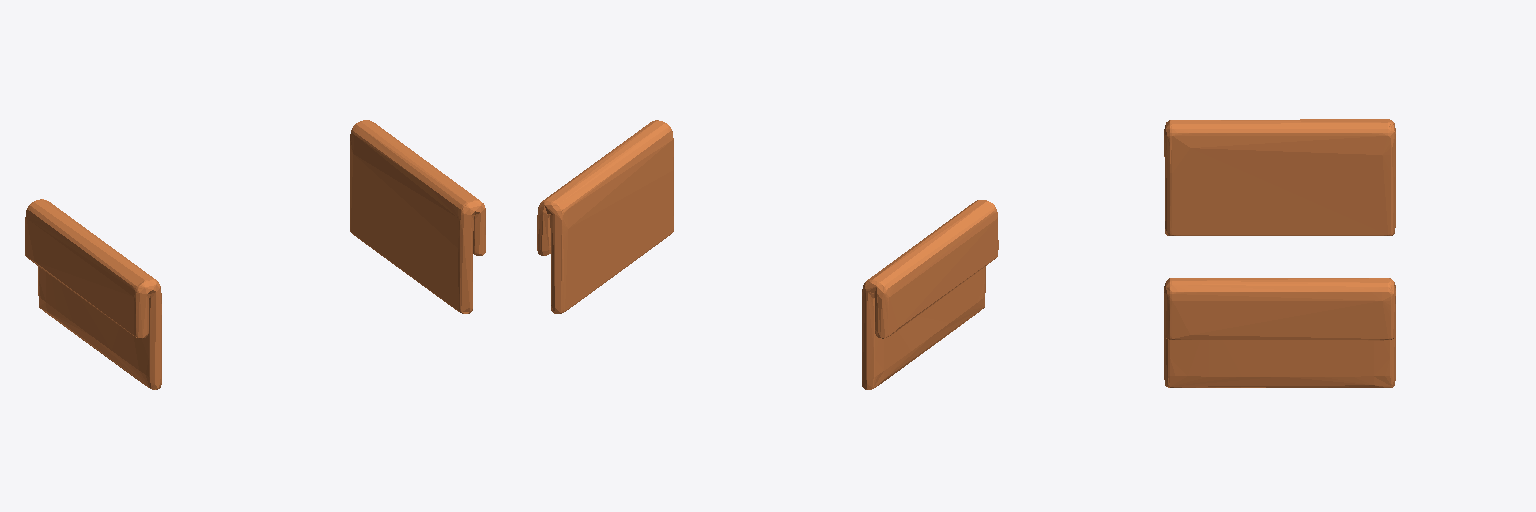
Rendered from fm1_design1_hands1.obj.
3 views of the same model, side by side, from view 1: azimuth 30°, elevation 25°; view 2: azimuth 150°, elevation 25°; view 3: azimuth 270°, elevation 25° (orthographic).
Parts seen in each view (by area): view 1: Box865; view 2: Box865; view 3: Box865.
Boxes of the visible parts, box(x1,y1,x2,y2) form: Box865: box(25, 120, 485, 389); Box865: box(537, 120, 998, 389); Box865: box(1164, 119, 1395, 387).
Size of the model in its own units: 1513 by 456 by 861.